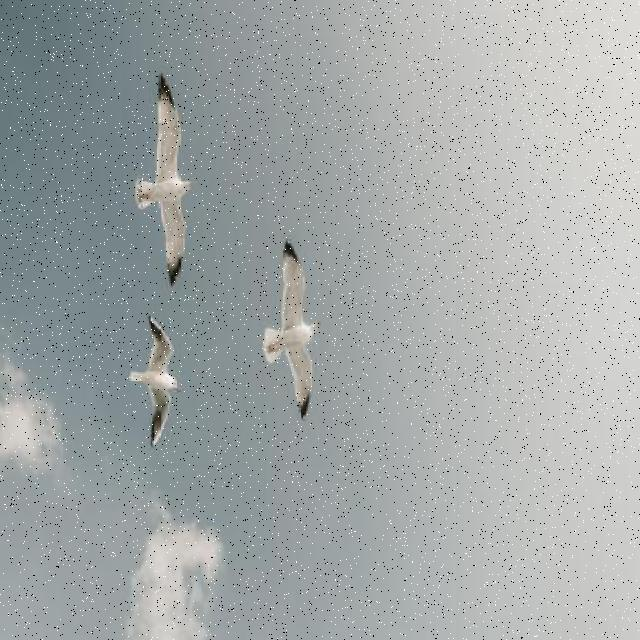bird: (137, 72, 196, 288), (264, 239, 322, 421), (132, 314, 180, 450)
